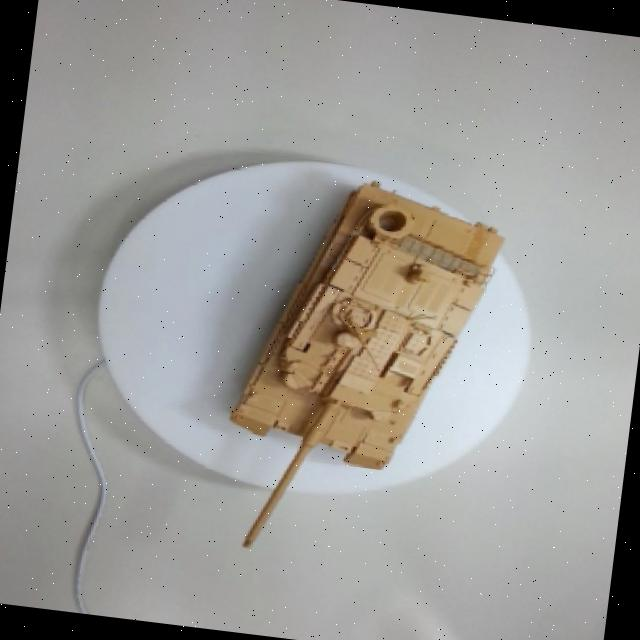korea tank: (173, 121, 538, 579)
